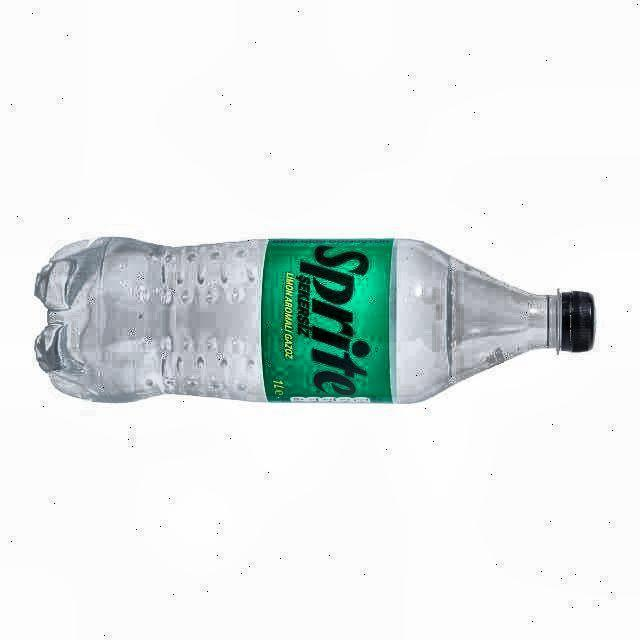plastic: (35, 237, 595, 403)
